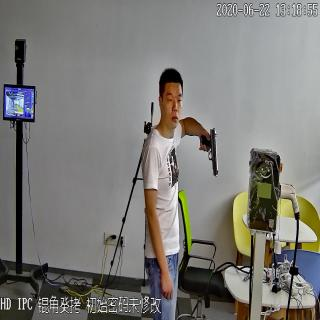gun: (198, 125, 218, 177)
